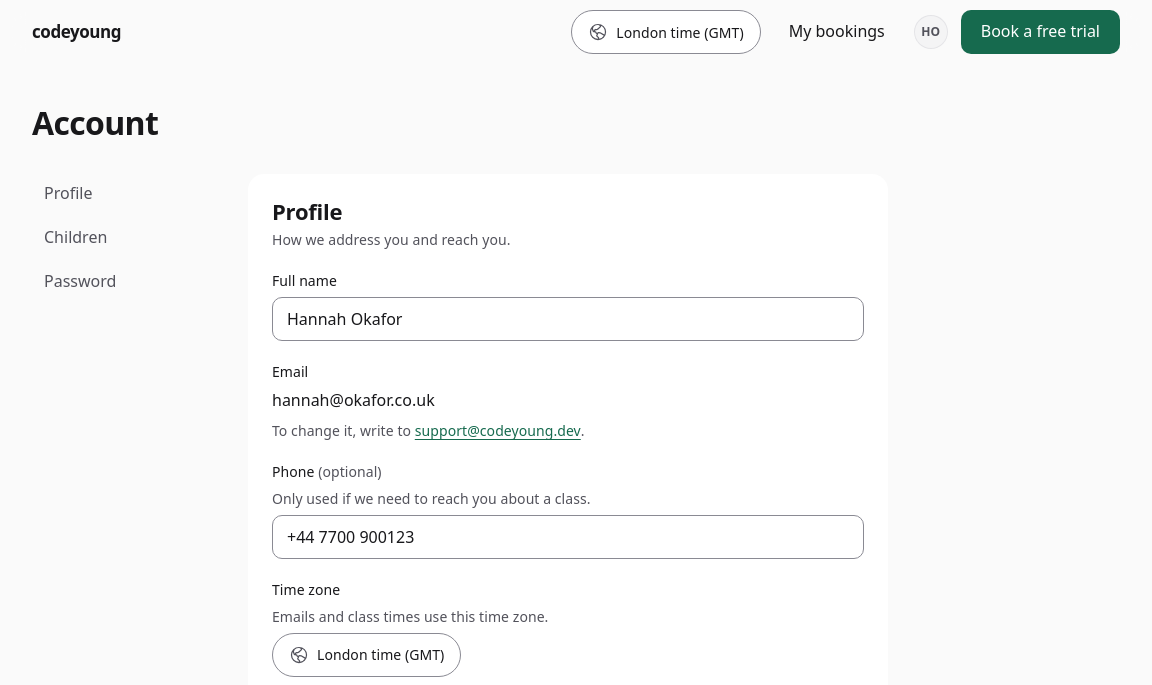
Test: profile › saves only what changed, clears an emptied phone and keeps the email read-only
Check: the text "hannah@okafor.co.uk" is shown, box [272, 389, 435, 411]
Step 1. Replace the text in the field labelled "Full name" with "Hannah Okafor-Reyes" → (568, 319), box [272, 297, 864, 341]
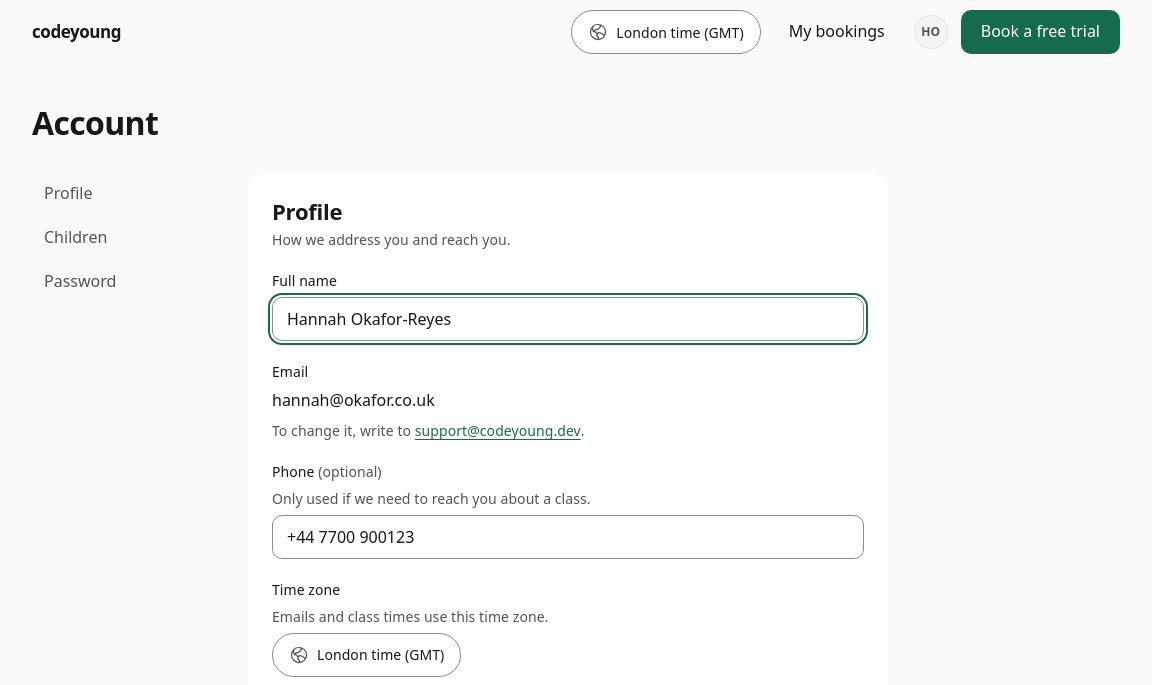
Step 2. Clear the field labelled "Phone (optional)" → (568, 537), box [272, 515, 864, 559]
(page scrolled)
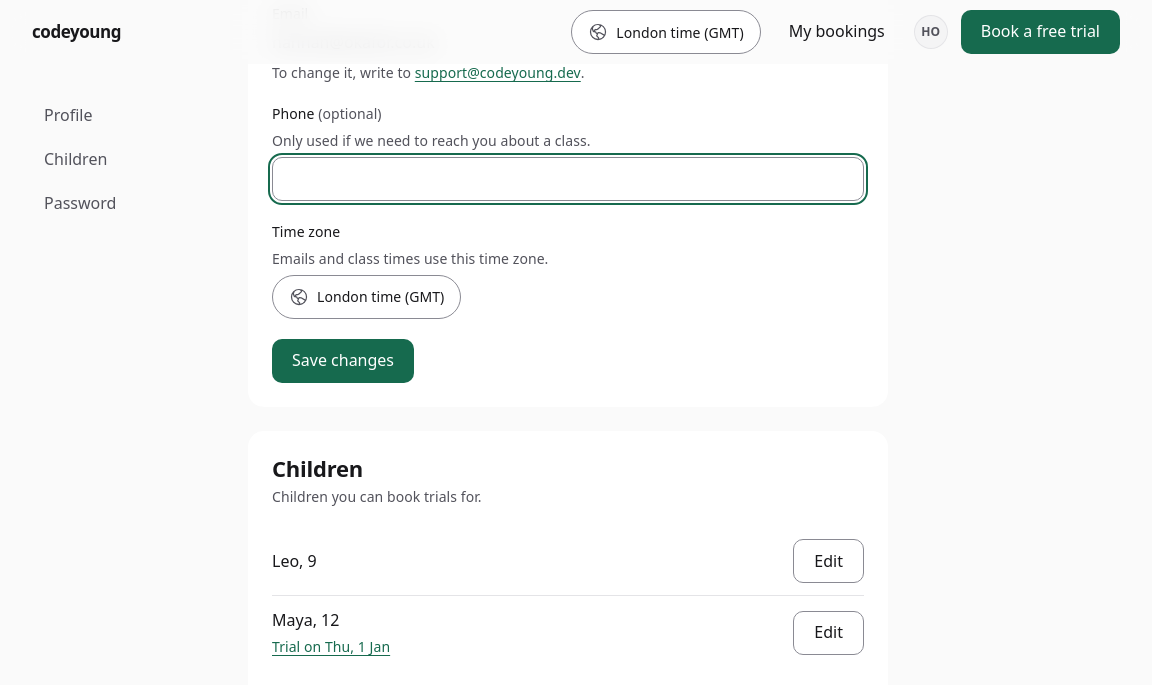
Step 3. Click the button "Save changes" → (343, 361), box [272, 339, 414, 383]
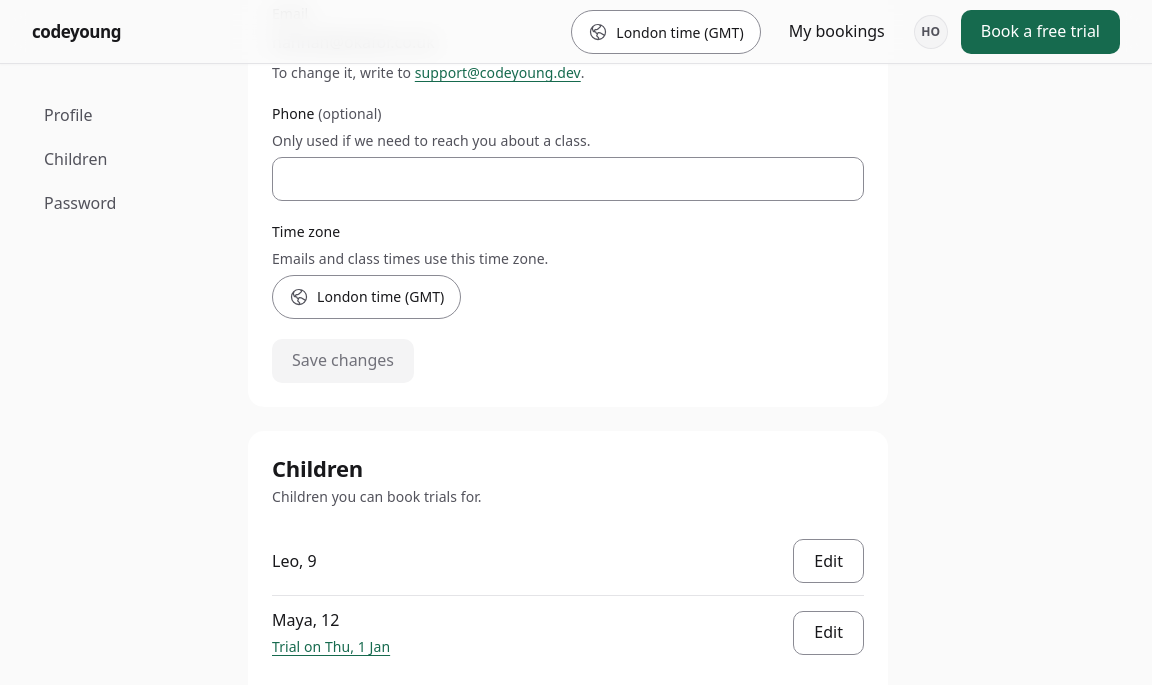
Check: the button "Save changes" is disabled, box [272, 339, 414, 383]
